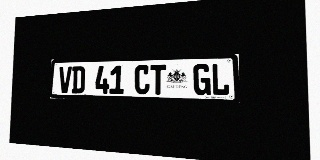1: (109, 65, 124, 94)
4: (95, 66, 109, 94)
C: (134, 65, 150, 94)
D: (71, 66, 85, 93)
G: (193, 64, 211, 95)
L: (211, 63, 230, 96)
T: (150, 64, 166, 95)
V: (59, 66, 72, 93)
